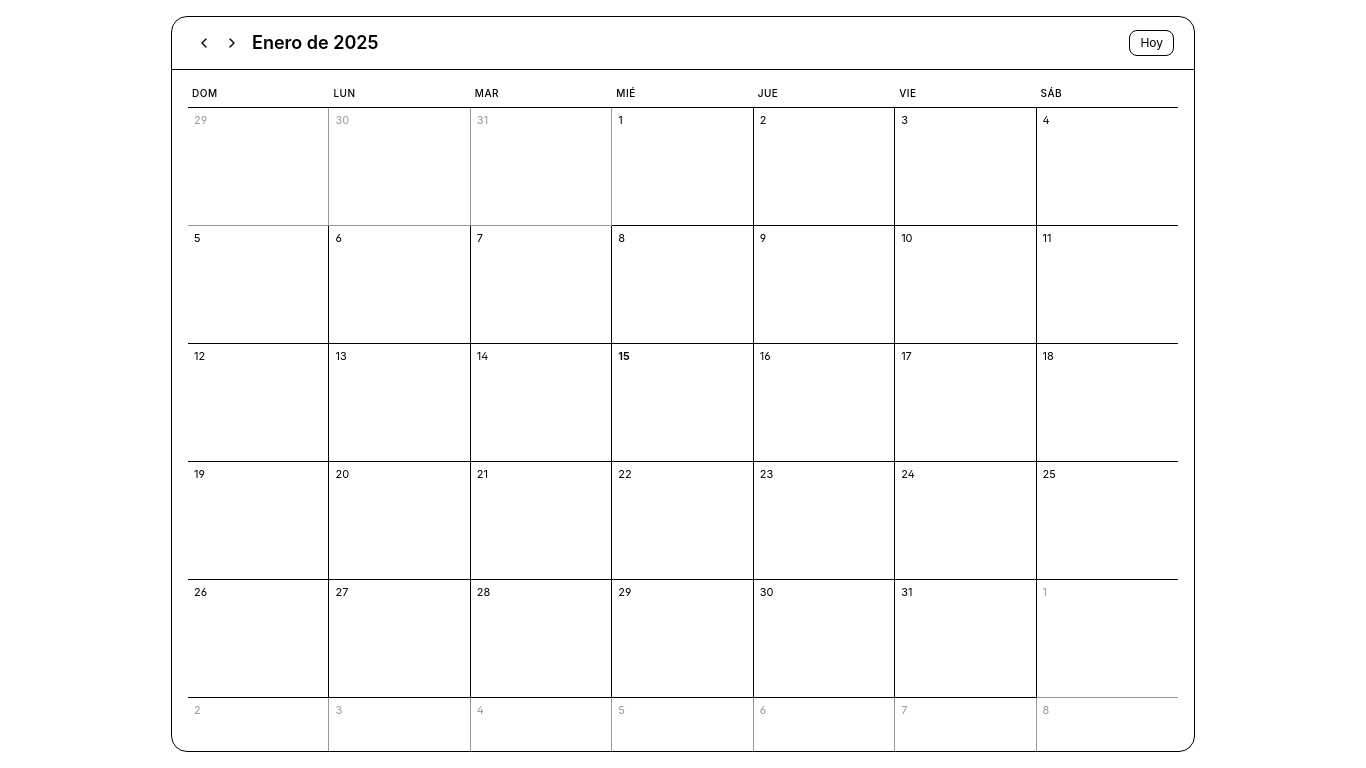
Test: MonthAgendaPopup › la flecha siguiente avanza un mes
Click the button with test id "month-agenda-next" at {"x": 232, "y": 43}, box [220,31,244,55]
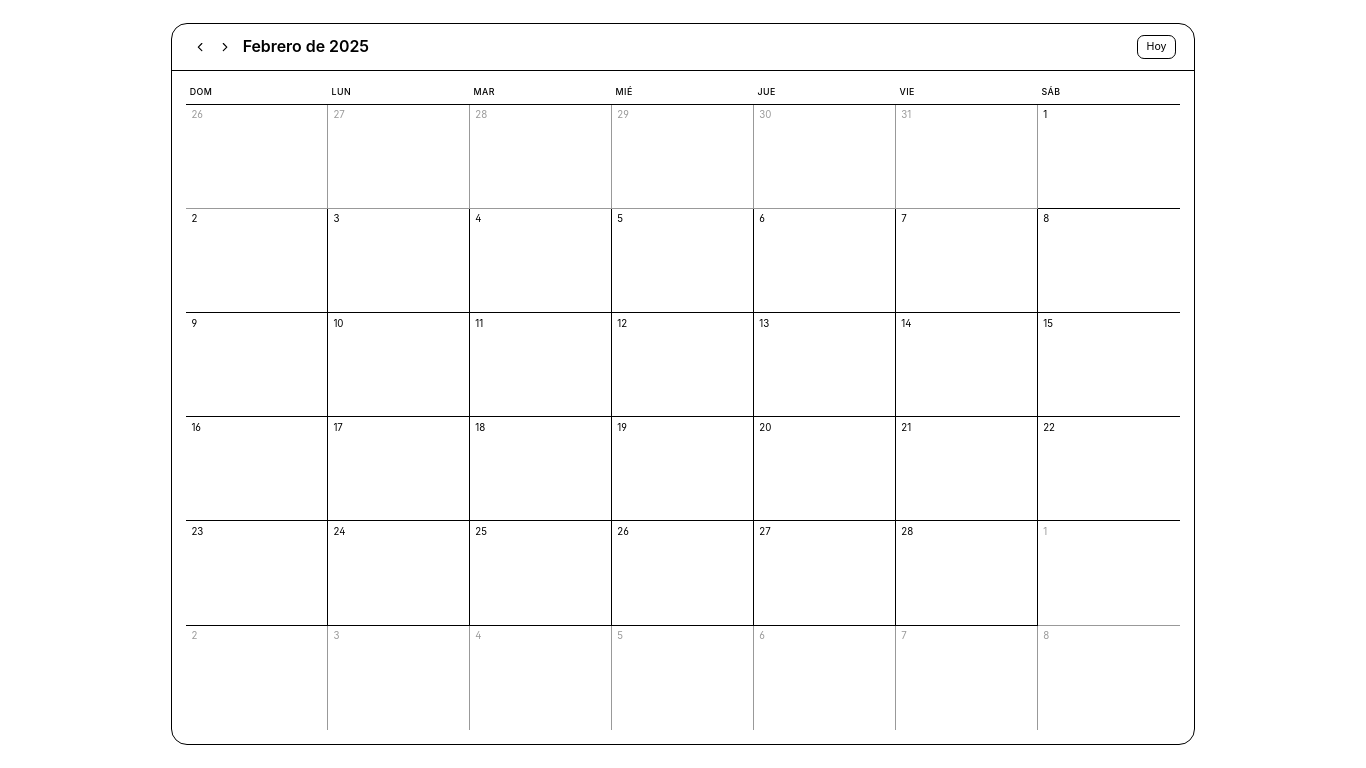
Expected: the text with test id "month-agenda-title" reads "Febrero de 2025", [243,36,369,56]
